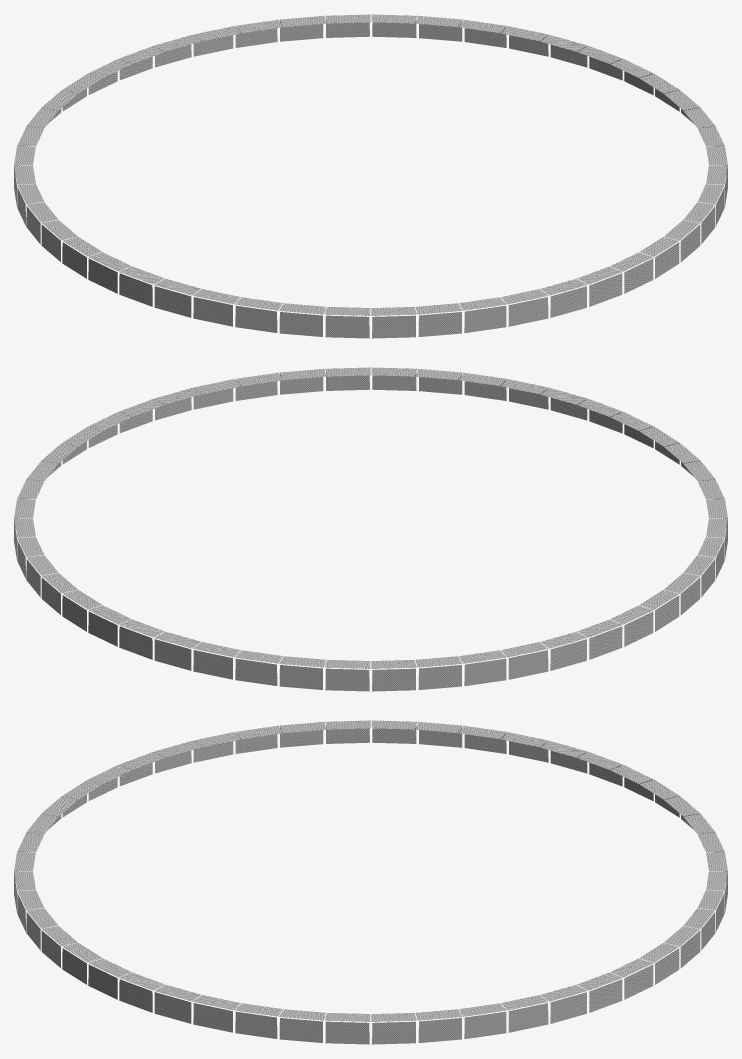
File: field_spring_grid_plane.fbx
3 views of the same model, one above another, from view 1: azimuth 30°, elevation 25°; view 2: azimuth 150°, elevation 25°; view 3: azimuth 270°, elevation 25° (orthographic).
Visible parts, largest first — view 1: field_spring_grid_plane; view 2: field_spring_grid_plane; view 3: field_spring_grid_plane.
Part boxes in pixels (x1,y1,x2,y2): field_spring_grid_plane: (14, 14, 727, 338); field_spring_grid_plane: (14, 367, 727, 691); field_spring_grid_plane: (14, 720, 727, 1044).
Bounding box in the file's own units: 7311 × 253 × 7311.
Materials: 1 (1 with a texture image).
